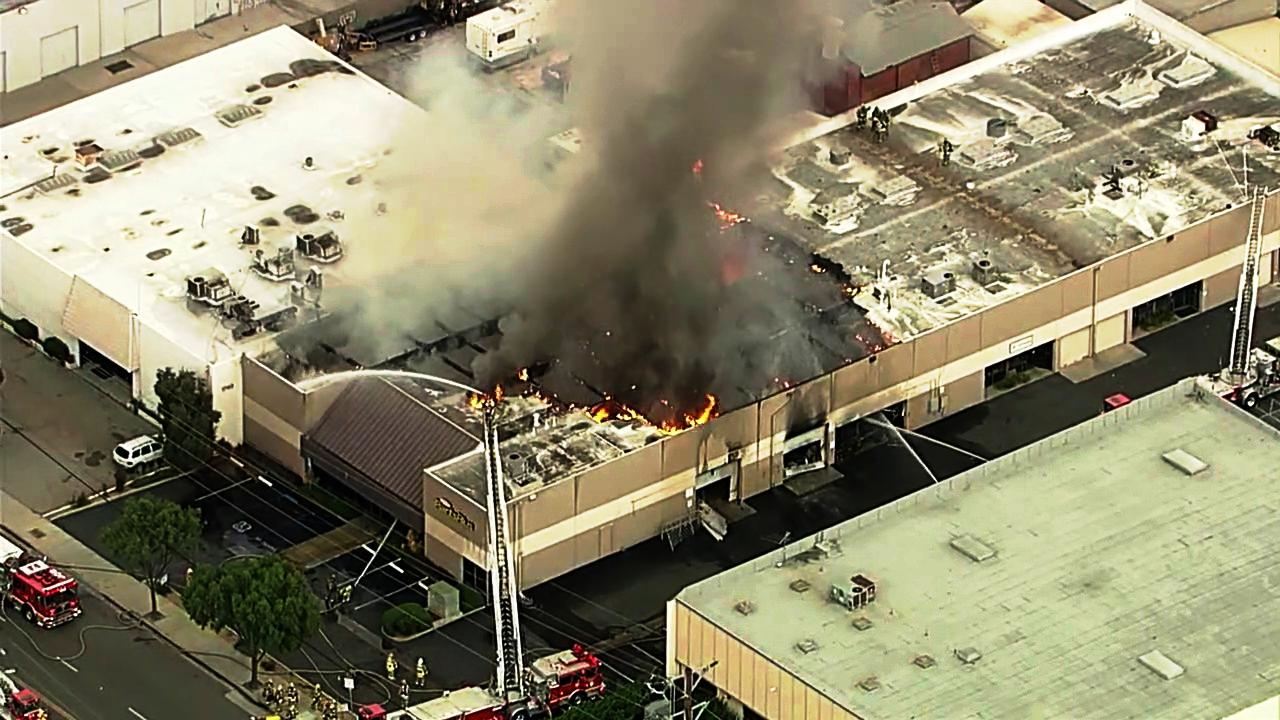smoke: (535, 0, 750, 330)
